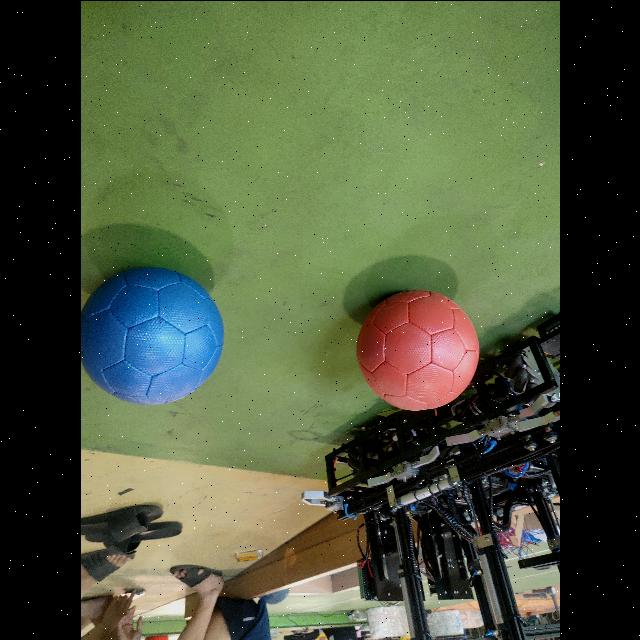B: (80, 267, 223, 403)
R: (357, 290, 479, 409)
